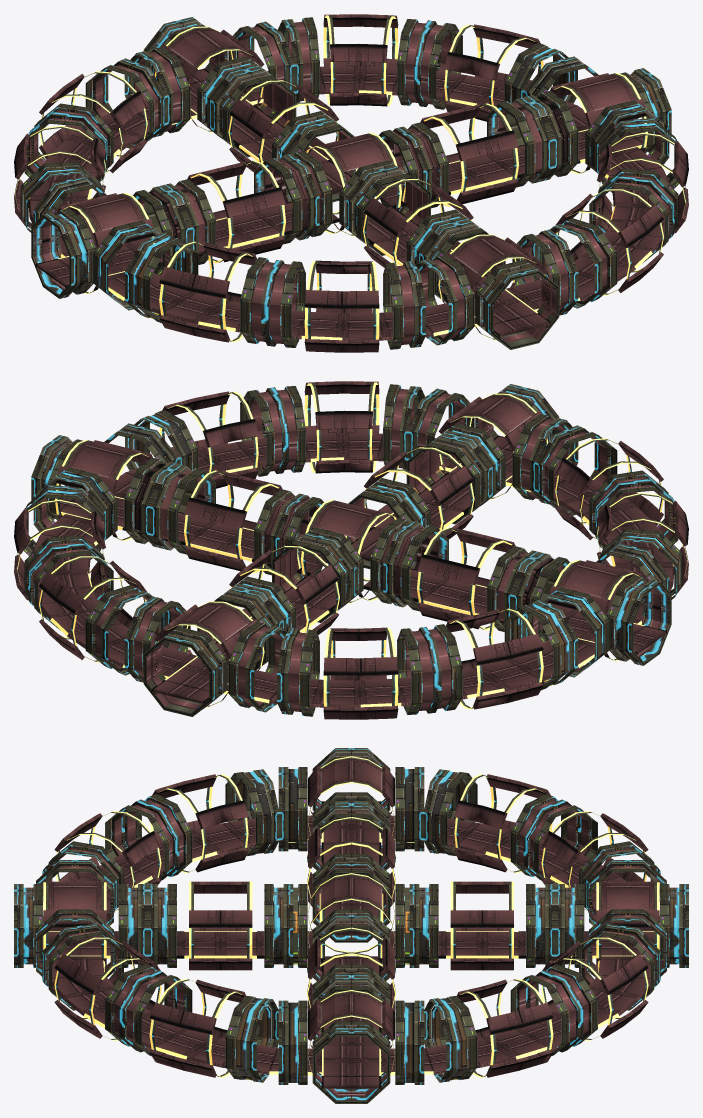
The model's file is corridor_mesh.glb.
3 views of the same model, one above another, from view 1: azimuth 30°, elevation 25°; view 2: azimuth 150°, elevation 25°; view 3: azimuth 270°, elevation 25° (orthographic). The views are drawn at different scales.
Visible parts, largest first — view 1: Colony_one, Colony_walker; view 2: Colony_one, Colony_walker; view 3: Colony_one, Colony_walker.
Boxes of the visible parts, <box> form: Colony_one: <box>14,14,688,352</box>; Colony_walker: <box>28,66,671,340</box>; Colony_one: <box>14,381,688,719</box>; Colony_walker: <box>31,433,674,707</box>; Colony_one: <box>14,748,688,1103</box>; Colony_walker: <box>23,801,679,1088</box>.
Size of what is drawn, in the model's own units: 46.39 by 6.13 by 46.39.
Materials: 3 (2 with a texture image).
